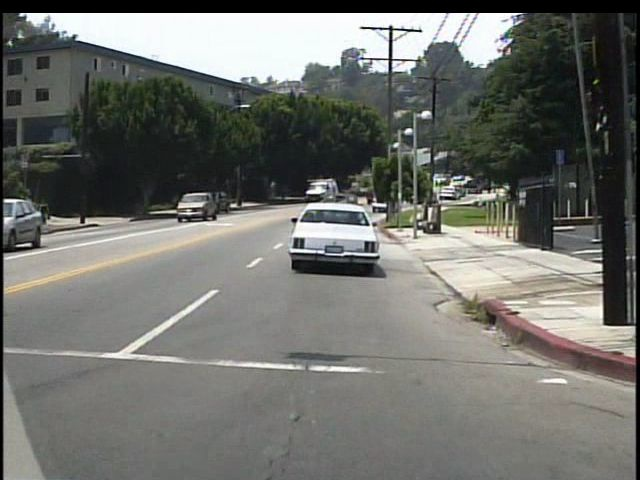person: (41, 199, 54, 228)
